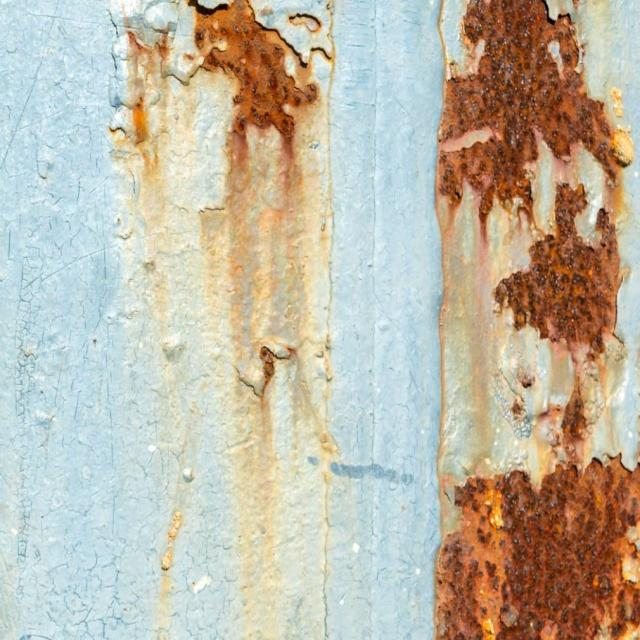Pitting Corrosion: (438, 0, 629, 230), (437, 457, 639, 639), (494, 186, 621, 352), (196, 0, 317, 140), (561, 384, 586, 458)
